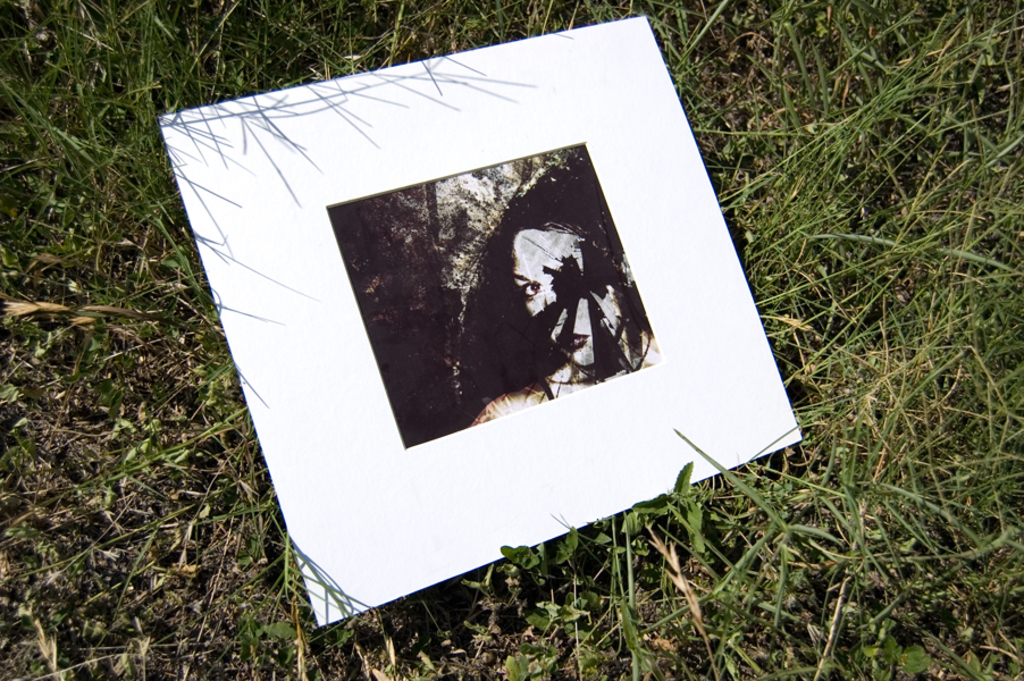Human-face: (512, 230, 619, 364)
